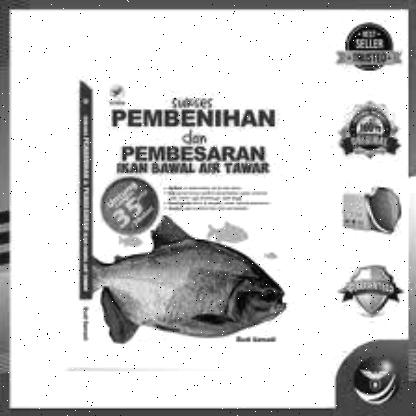ikan-pacu: (90, 238, 290, 342)
